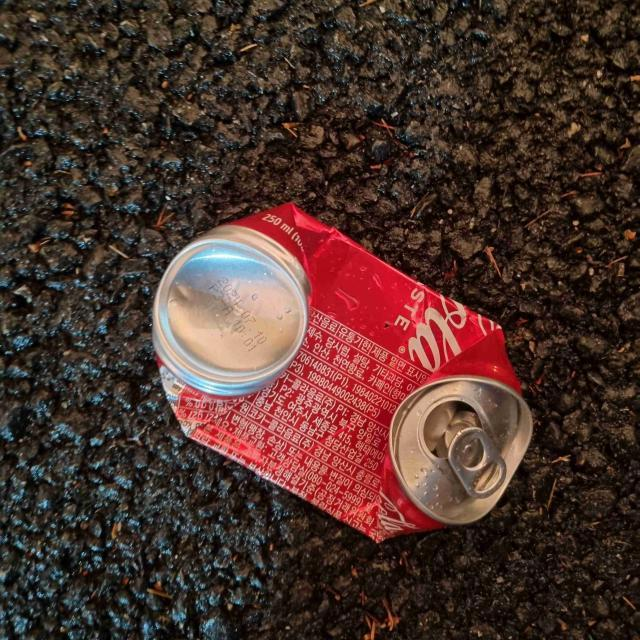kimloai: (152, 204, 532, 541)
